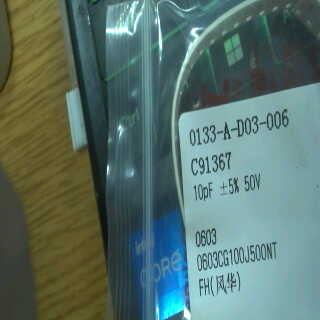10pF: (190, 177, 217, 203)
